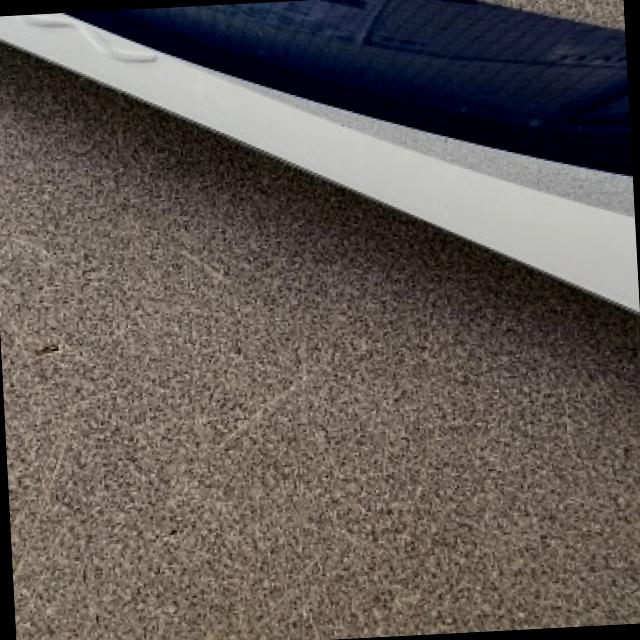healthy: (0, 13, 638, 308)
